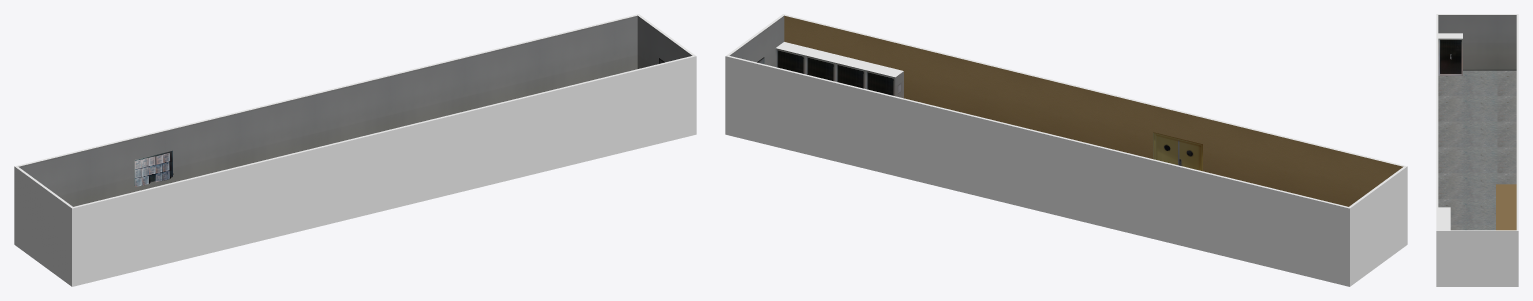
3 renders of one model, left to right at view 1: azimuth 30°, elevation 25°; view 2: azimuth 150°, elevation 25°; view 3: azimuth 270°, elevation 25°, orthographic. The views are drawn at different scales.
Visible parts, largest first — view 1: SketchUp (×2), instance_1; view 2: SketchUp (×3), instance_0, instance_3, instance_6, instance_4, instance_5; view 3: SketchUp (×3), instance_7 (×2), instance_9, instance_8, instance_5, instance_6.
Boxes of the visible parts, left/top/right/bottom form: SketchUp (×2): left=14, top=14, right=696, bottom=286; instance_1: left=134, top=150, right=173, bottom=186; SketchUp (×3): left=725, top=14, right=1407, bottom=286; instance_0: left=1153, top=132, right=1202, bottom=171; instance_3: left=775, top=48, right=805, bottom=74; instance_6: left=865, top=70, right=895, bottom=95; instance_4: left=805, top=55, right=835, bottom=81; instance_5: left=835, top=63, right=865, bottom=88; SketchUp (×3): left=1436, top=14, right=1518, bottom=286; instance_7 (×2): left=1438, top=33, right=1462, bottom=75; instance_9: left=1496, top=184, right=1516, bottom=210; instance_8: left=1496, top=210, right=1516, bottom=230; instance_5: left=1438, top=217, right=1450, bottom=227; instance_6: left=1438, top=207, right=1450, bottom=217.
Bounding box in the file's own units: 984 × 157 × 118.
10 materials, 8 textured.
